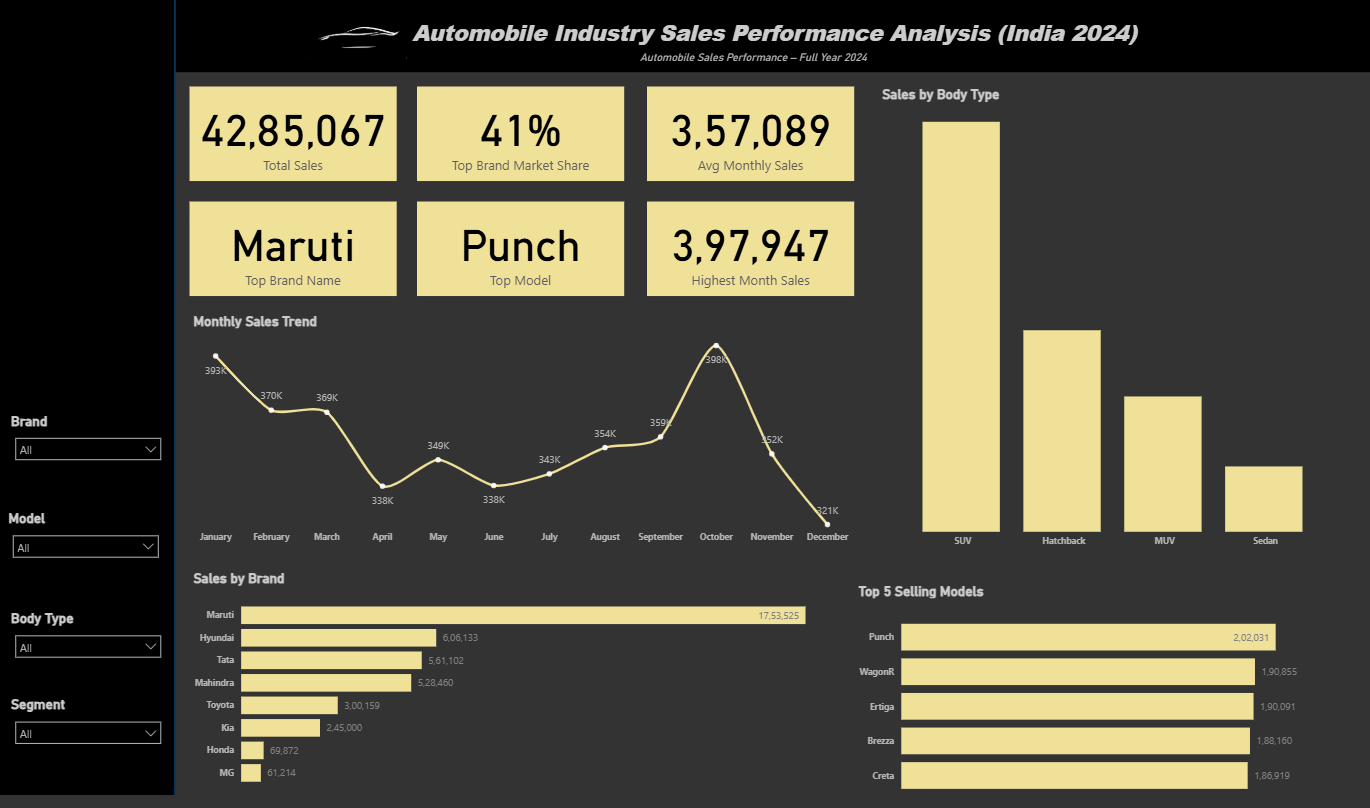

What the dashboard file says about the page in this screenshot:
{"tool":"powerbi","page":{"name":"Sales Overview","canvas":[1700,1000],"ordinal":0},"visuals":[{"type":"textbox","box":[220.3,0,1479.7,90.6],"z":0},{"type":"card","fields":{"Values":["DateTable.Total Sales"]},"box":[237.5,107.8,256.2,117.2],"z":1000},{"type":"shape","box":[0,0,220.3,984.4],"z":2000},{"type":"card","fields":{"Values":["DateTable.Top Brand Share %"]},"box":[518.8,107.8,256.2,117.2],"z":3000},{"type":"card","fields":{"Values":["DateTable.Highest Month Sales"]},"box":[803.1,250,256.2,117.2],"z":4000},{"type":"card","fields":{"Values":["DateTable.Top Brand Name"]},"box":[237.5,250,256.2,117.2],"z":5000},{"type":"card","fields":{"Values":["DateTable.Top Model"]},"box":[518.8,250,256.2,117.2],"z":6000},{"type":"card","fields":{"Values":["DateTable.Avg Monthly Sales"]},"box":[803.1,107.8,256.2,117.2],"z":7000},{"type":"lineChart","title":"Monthly Sales Trend","fields":{"Category":["DimMonth.Month Name"],"Y":["DateTable.Total Sales"]},"box":[237.5,387.5,821.9,293.8],"z":8000},{"type":"clusteredBarChart","title":"Sales by Brand","fields":{"Category":["Fact_Sales.Make"],"Y":["DateTable.Total Sales"]},"box":[237.5,706.2,821.9,278.1],"z":9000},{"type":"clusteredBarChart","title":"Top 5 Selling Models","fields":{"Category":["Fact_Sales.Model"],"Y":["DateTable.Total Sales"]},"box":[1059.4,721.9,576.6,278.1],"z":10000},{"type":"slicer","title":"Brand","fields":{"Values":["Fact_Sales.Make"]},"box":[11.7,511.7,200,88.3],"z":11000},{"type":"slicer","title":"Model","fields":{"Values":["Fact_Sales.Model"]},"box":[10,631.7,200,90],"z":12000},{"type":"slicer","title":"Body Type","fields":{"Values":["Fact_Sales.Body Type"]},"box":[11.7,755,200,90],"z":13000},{"type":"slicer","title":"Segment","fields":{"Values":["Fact_Sales.Segment"]},"box":[11.7,861.7,200,88.3],"z":14000},{"type":"clusteredColumnChart","title":" Sales by Body Type","fields":{"Category":["Fact_Sales.Body Type"],"Y":["DateTable.Total Sales"]},"box":[1088.3,108.3,583.3,578.3],"z":15000},{"type":"card","fields":{"Values":["DateTable.Dynamic Title"]},"box":[781.7,55,306.7,36.7],"z":16000},{"type":"image","box":[382,2,130,90],"z":17000}]}

Visuals, with their boxes on the page's 1700x1000 design canvas (x1, y1, x2, y2). These are canvas units, not pixel positions in the 1370x808 screenshot, which may show the page scaled, cropped or inside an application window:
textbox: {"left": 220, "top": 0, "right": 1700, "bottom": 91}
card - DateTable.Total Sales: {"left": 238, "top": 108, "right": 494, "bottom": 225}
shape: {"left": 0, "top": 0, "right": 220, "bottom": 984}
card - DateTable.Top Brand Share %: {"left": 519, "top": 108, "right": 775, "bottom": 225}
card - DateTable.Highest Month Sales: {"left": 803, "top": 250, "right": 1059, "bottom": 367}
card - DateTable.Top Brand Name: {"left": 238, "top": 250, "right": 494, "bottom": 367}
card - DateTable.Top Model: {"left": 519, "top": 250, "right": 775, "bottom": 367}
card - DateTable.Avg Monthly Sales: {"left": 803, "top": 108, "right": 1059, "bottom": 225}
"Monthly Sales Trend" lineChart: {"left": 238, "top": 388, "right": 1059, "bottom": 681}
"Sales by Brand" clusteredBarChart: {"left": 238, "top": 706, "right": 1059, "bottom": 984}
"Top 5 Selling Models" clusteredBarChart: {"left": 1059, "top": 722, "right": 1636, "bottom": 1000}
"Brand" slicer: {"left": 12, "top": 512, "right": 212, "bottom": 600}
"Model" slicer: {"left": 10, "top": 632, "right": 210, "bottom": 722}
"Body Type" slicer: {"left": 12, "top": 755, "right": 212, "bottom": 845}
"Segment" slicer: {"left": 12, "top": 862, "right": 212, "bottom": 950}
" Sales by Body Type" clusteredColumnChart: {"left": 1088, "top": 108, "right": 1672, "bottom": 687}
card - DateTable.Dynamic Title: {"left": 782, "top": 55, "right": 1088, "bottom": 92}
image: {"left": 382, "top": 2, "right": 512, "bottom": 92}
